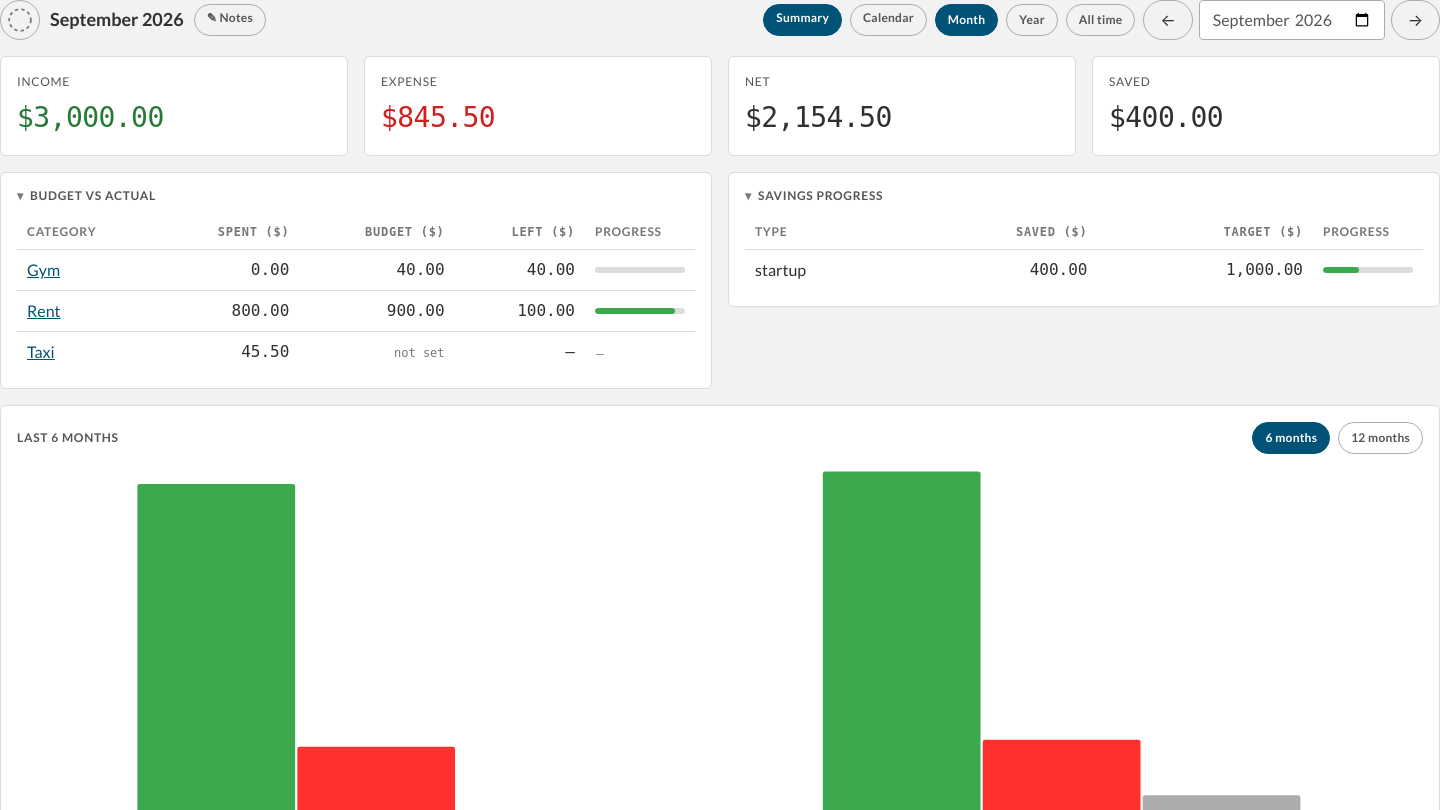
Test: collapsible sections › folds a section away and keeps its headline in the header
The width and height of the screenshot is (1440, 810).
Check: the table named "Budget vs actual" is shown, box [17, 215, 695, 372]
Click the button "▾ Budget vs actual". click: {"x": 93, "y": 196}
box: [17, 189, 695, 203]
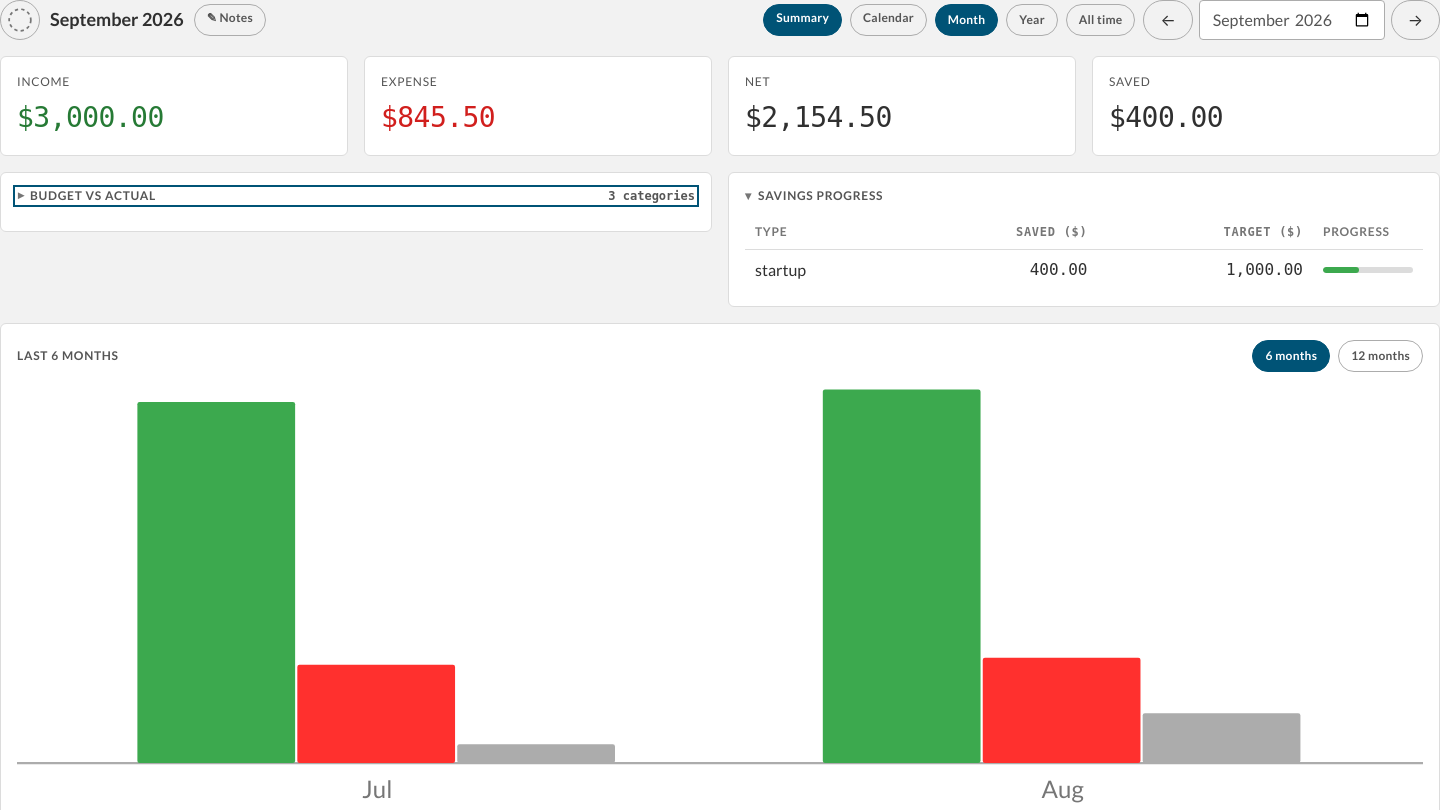
Check: the button "▾ Budget vs actual 3 categories" is collapsed, box [17, 189, 695, 203]
Check: the button "▾ Budget vs actual 3 categories" is shown, box [17, 189, 695, 203]
